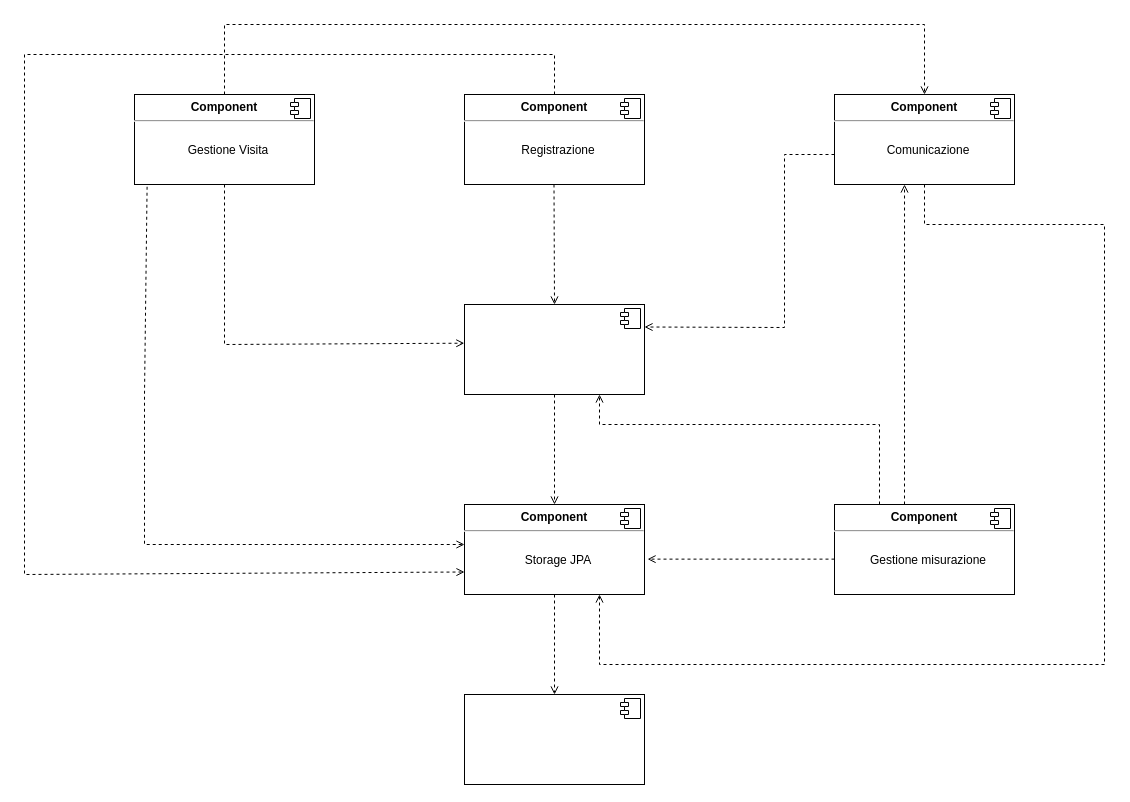
Image size: 1130x802. Some labels were removed from this diagram. Each missing label, with the centre of its shape:
Component Gestione Utente: (554,349)
Component Persistenza: (554,739)
